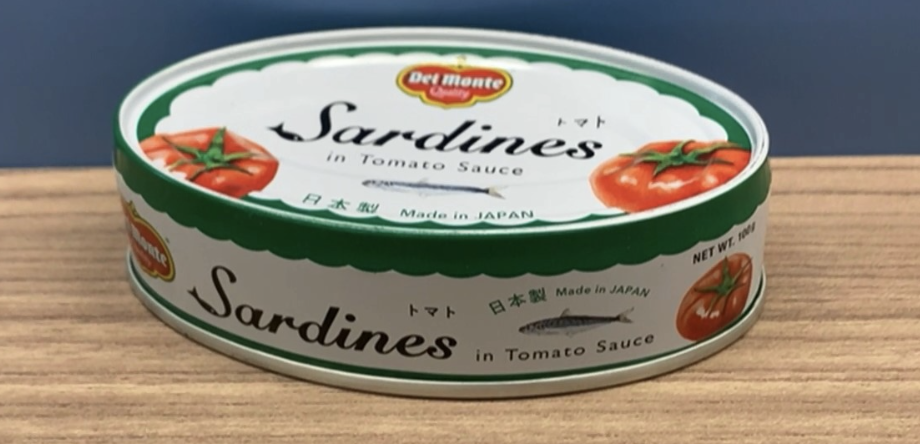sardines_100g-199g: (146, 59, 747, 377)
